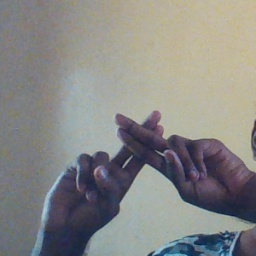F: (82, 107, 214, 204)
